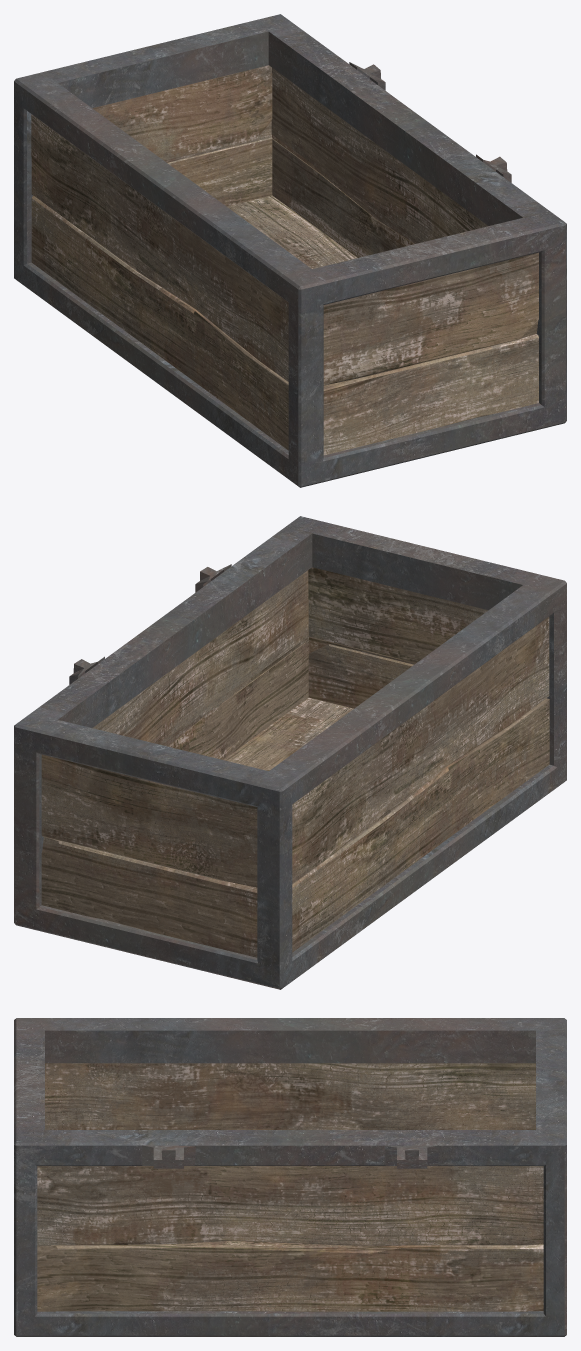
File: SM_Chest_Open_01.fbx
3 views of the same model, one above another, from view 1: azimuth 30°, elevation 25°; view 2: azimuth 150°, elevation 25°; view 3: azimuth 270°, elevation 25° (orthographic). The views are drawn at different scales.
Parts seen in each view (by area): view 1: SM_Chest_Open_01_LOD0; view 2: SM_Chest_Open_01_LOD0; view 3: SM_Chest_Open_01_LOD0.
Part boxes in pixels (<box>): SM_Chest_Open_01_LOD0: <box>14,14,566,487</box>; SM_Chest_Open_01_LOD0: <box>14,516,566,989</box>; SM_Chest_Open_01_LOD0: <box>14,1018,566,1336</box>.
Bounding box in the file's own units: 52.99 × 92.39 × 35.91.
